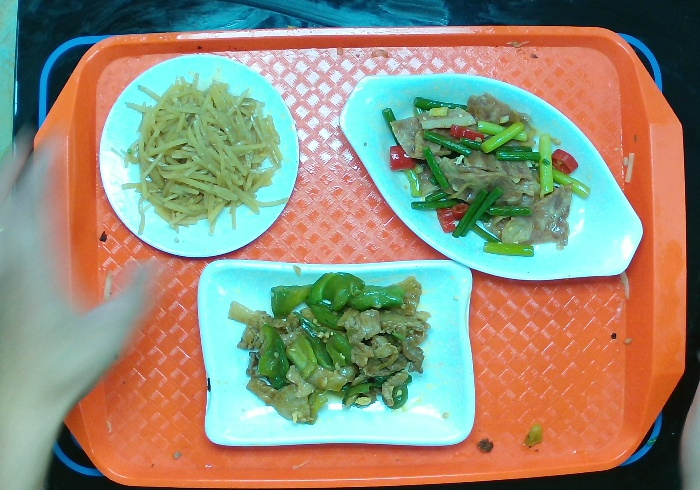RJxy-Si_Fang_Ao_Bian_Wan: (196, 250, 483, 454)
RJxy-Xiao_Yuan_Die: (93, 49, 303, 256)
RJxy-Yu_Pan: (339, 68, 646, 284)
